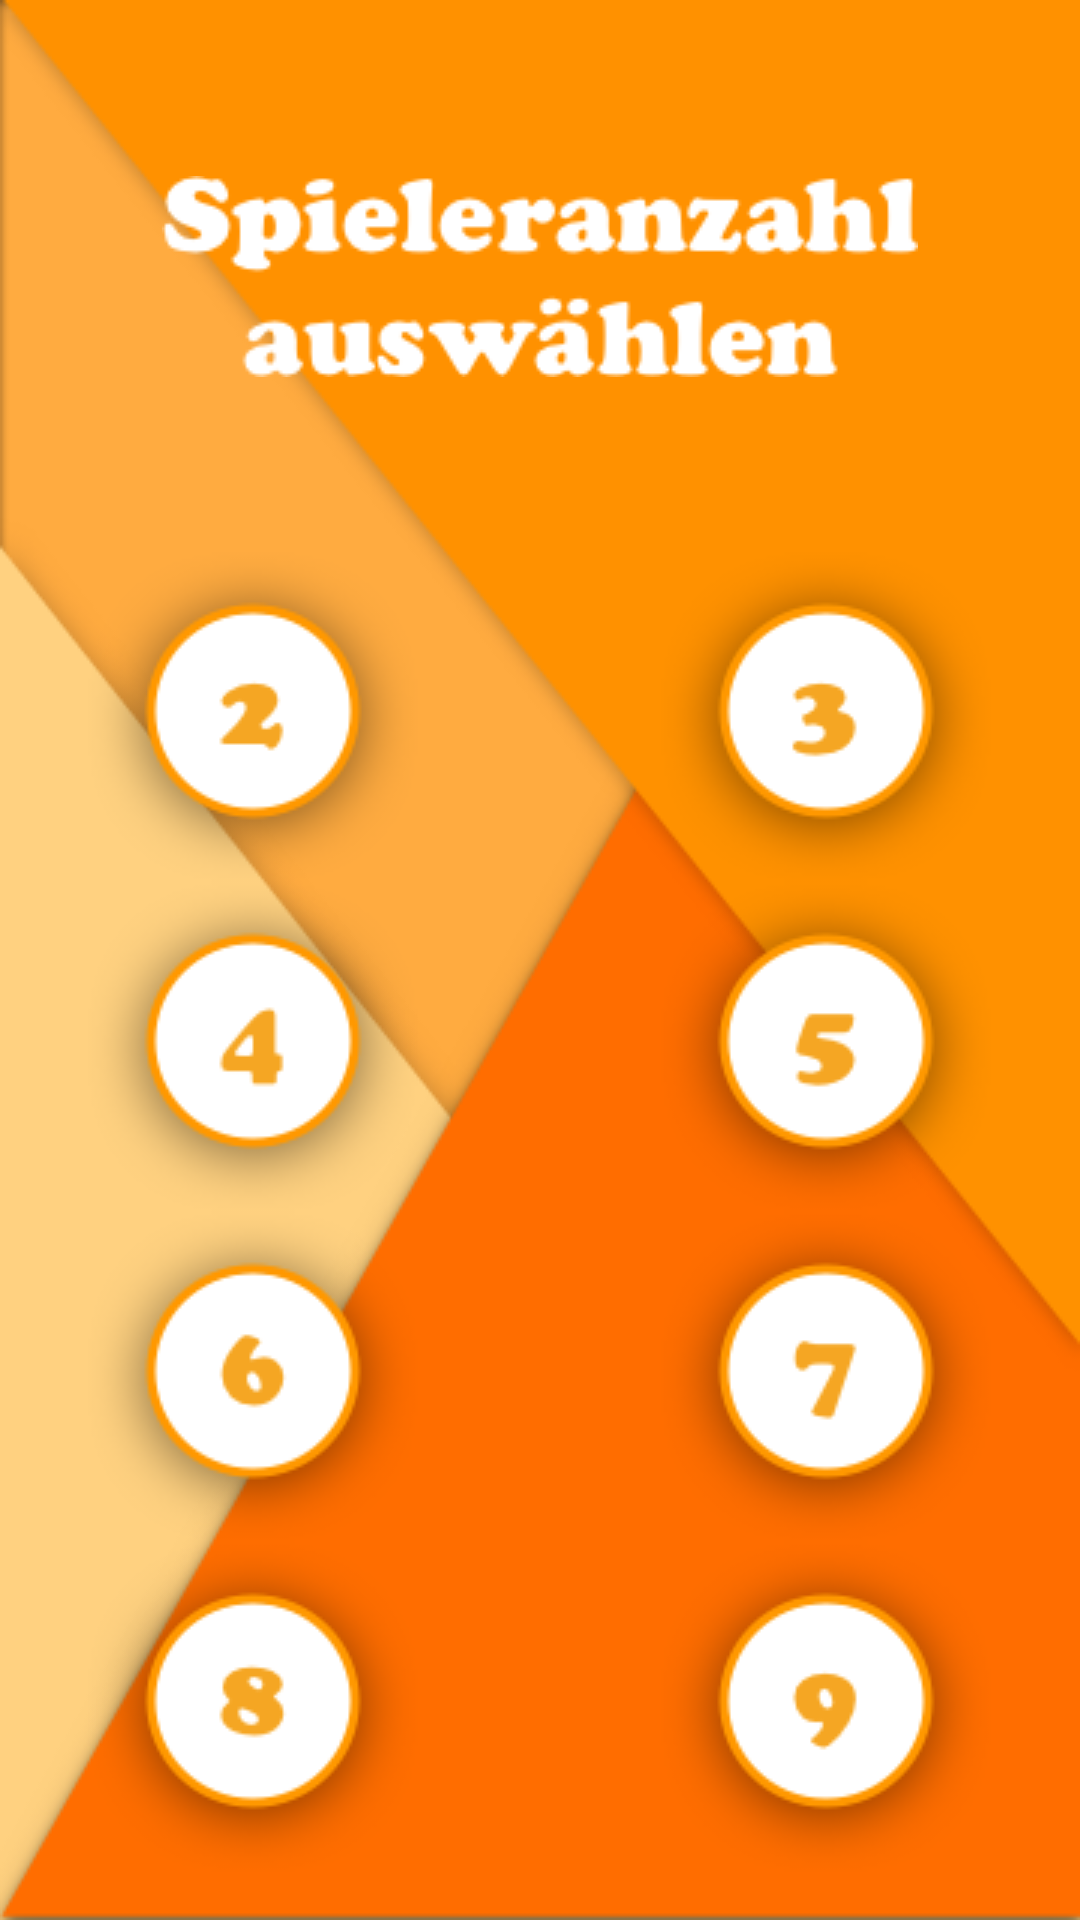

Screen size 1080px x 1920px. Icon name, then its center in pixels as point (x, y):
playercntb: point (235, 735), point (826, 717), point (271, 1047), point (826, 1047), point (253, 1377), point (826, 1377), point (235, 1689), point (826, 1707)
